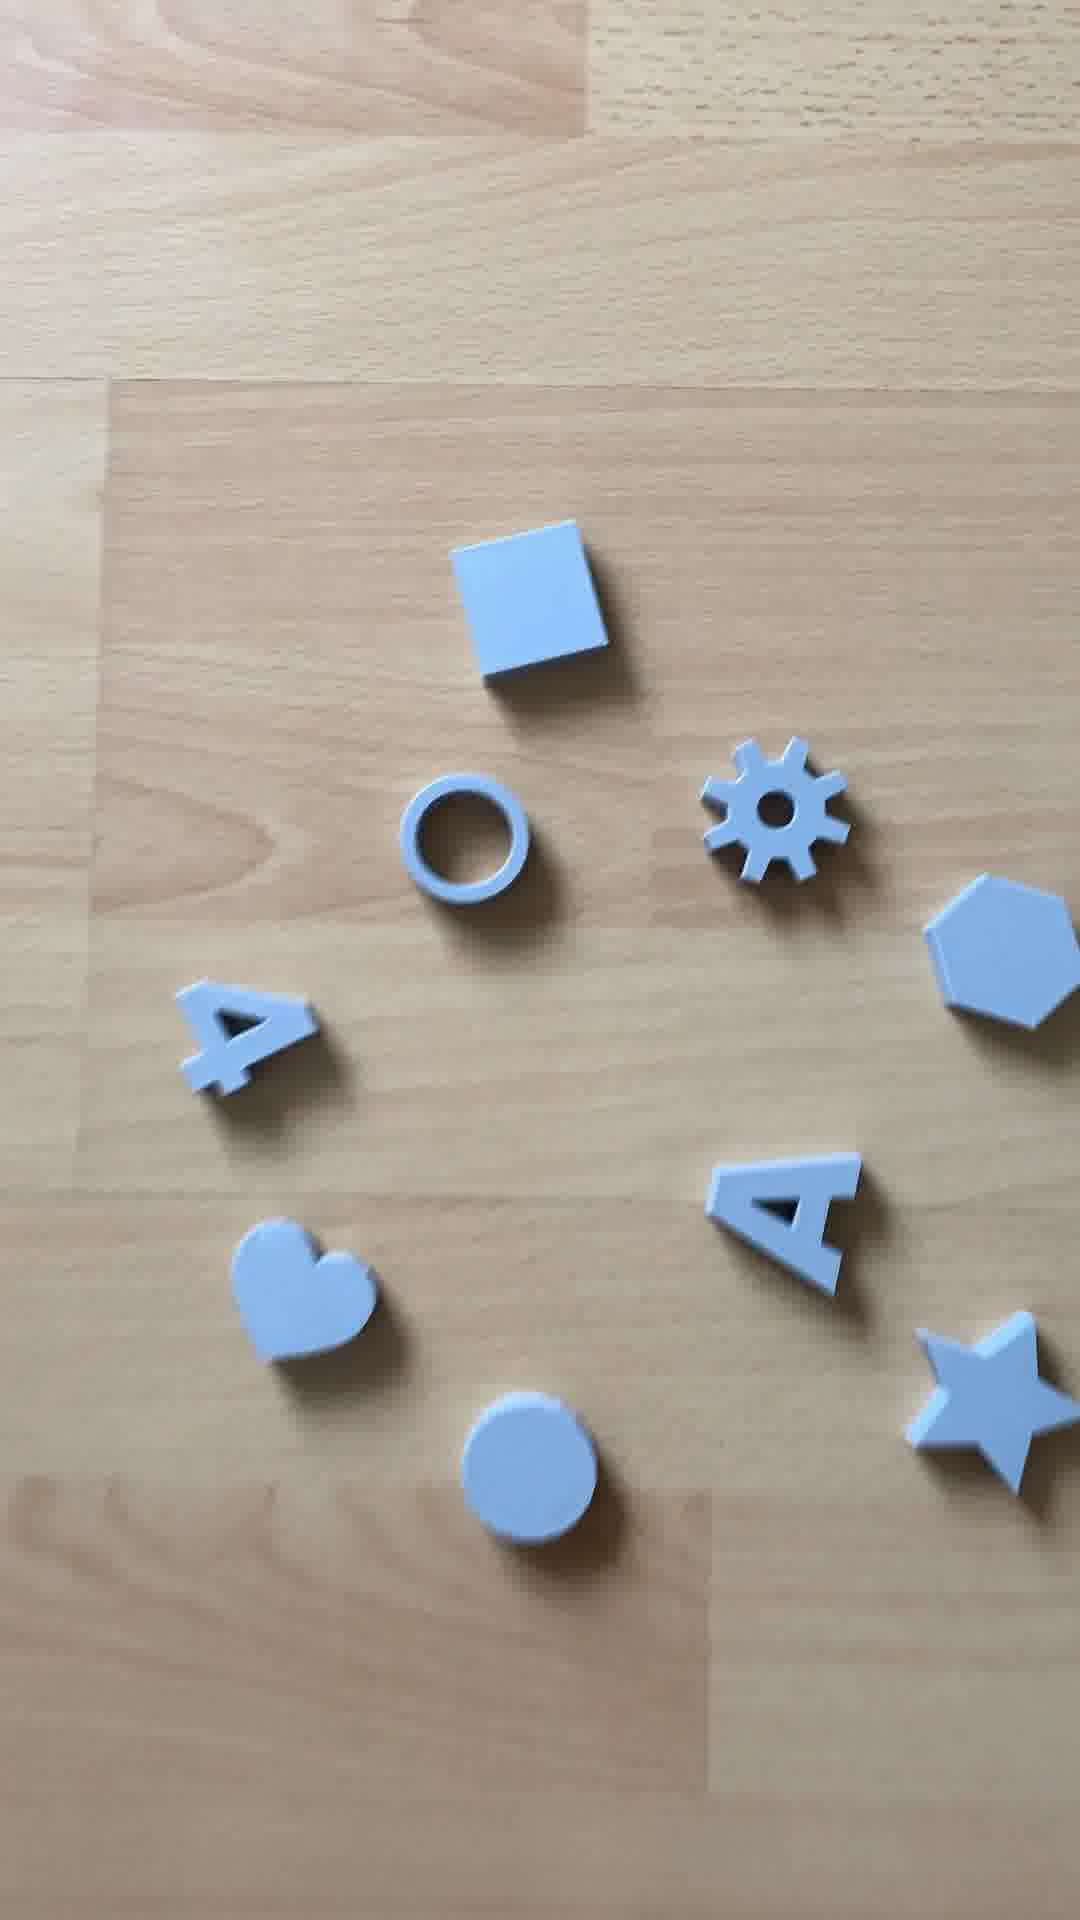Gray A-letter: (704, 1142, 870, 1305)
Gray circle: (454, 1387, 611, 1545)
Gray four: (167, 978, 320, 1104)
Gray gear: (694, 727, 858, 899)
Gray heart: (218, 1215, 384, 1369)
Gray hexagon: (911, 862, 1076, 1052)
Gray ring: (398, 767, 527, 910)
Gray square: (451, 516, 611, 687)
Gray star: (911, 1327, 1080, 1487)
